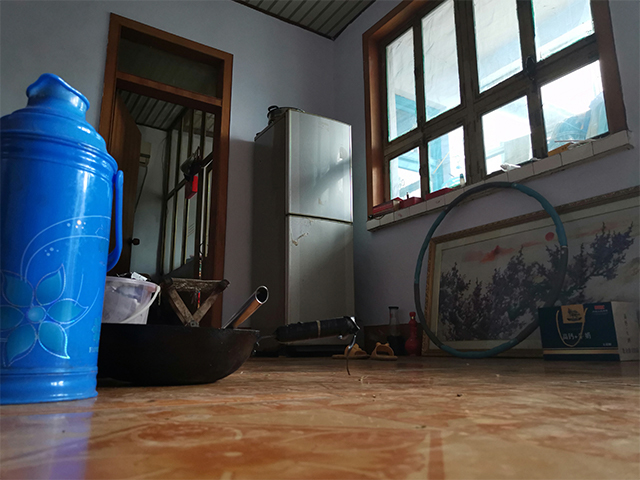slippers: (326, 341, 400, 359)
stool: (156, 275, 230, 328)
trashcan: (100, 273, 160, 324)
